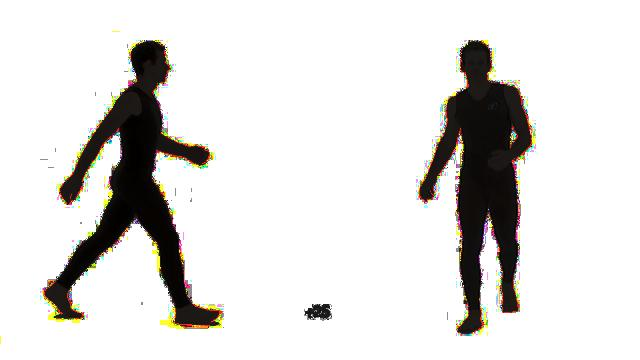berjalan: (42, 39, 224, 329), (416, 39, 536, 336)
